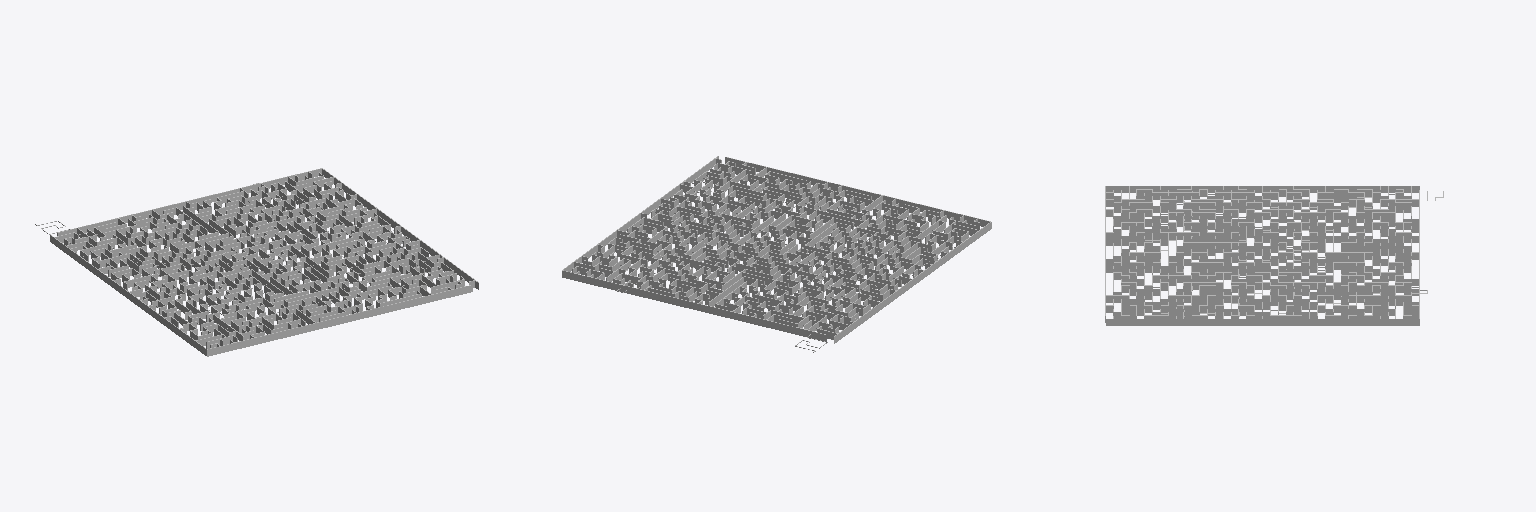
File: Лабиринт.obj
3 renders of one model, left to right at view 1: azimuth 30°, elevation 25°; view 2: azimuth 150°, elevation 25°; view 3: azimuth 270°, elevation 25°, orthographic.
Parts seen in each view (by area): view 1: Curve.004, solution; view 2: Curve.004, solution; view 3: Curve.004, solution.
Part boxes in pixels (bbox=[...]): Curve.004: bbox=[50, 168, 478, 356]; solution: bbox=[35, 183, 454, 328]; Curve.004: bbox=[562, 156, 991, 343]; solution: bbox=[617, 175, 955, 352]; Curve.004: bbox=[1105, 186, 1419, 325]; solution: bbox=[1145, 191, 1443, 316].
Size of the model in its own units: 40.13 by 0.9998 by 44.58.